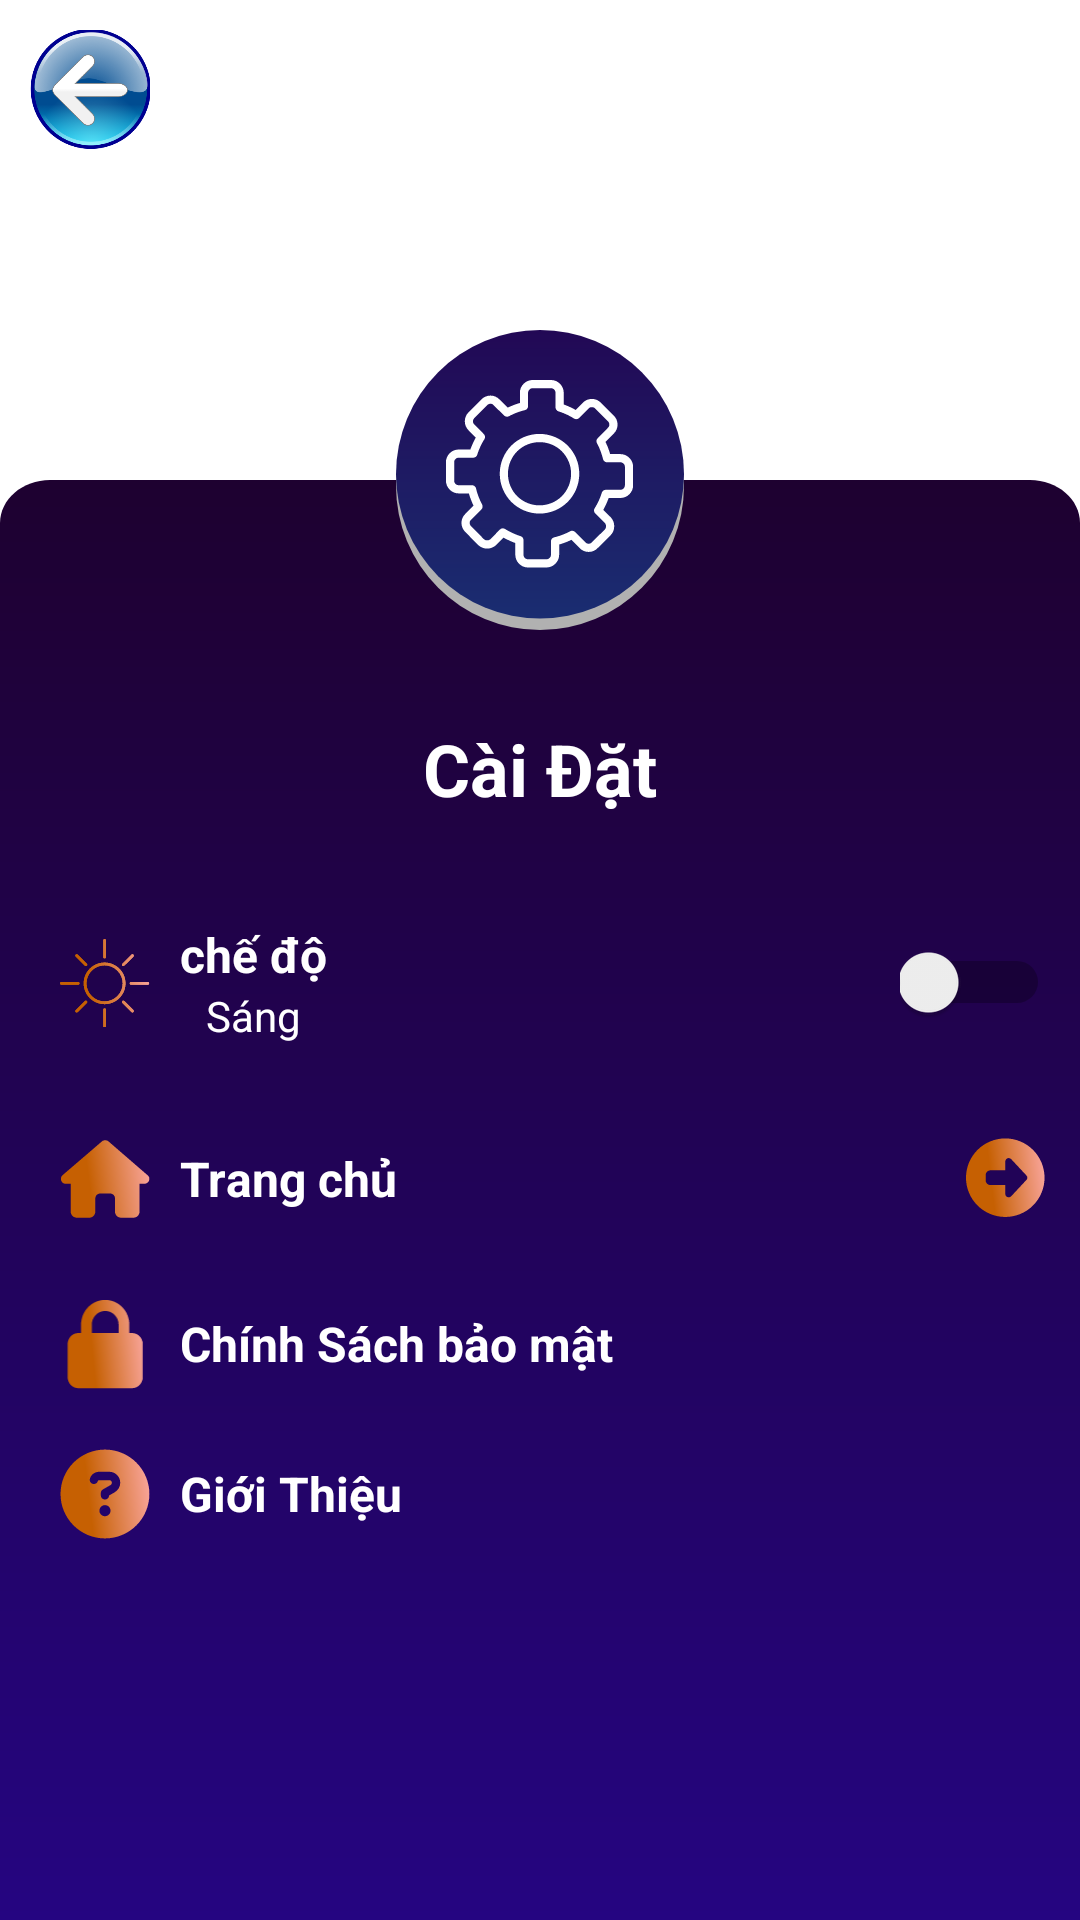

Where to tap for icons on this 1080 x 1920 app screen, as [x,y]:
back: [90,89]
home: [105,1179]
intro: [105,1494]
policy: [105,1344]
right: [1005,1177]
setup: [540,480]
